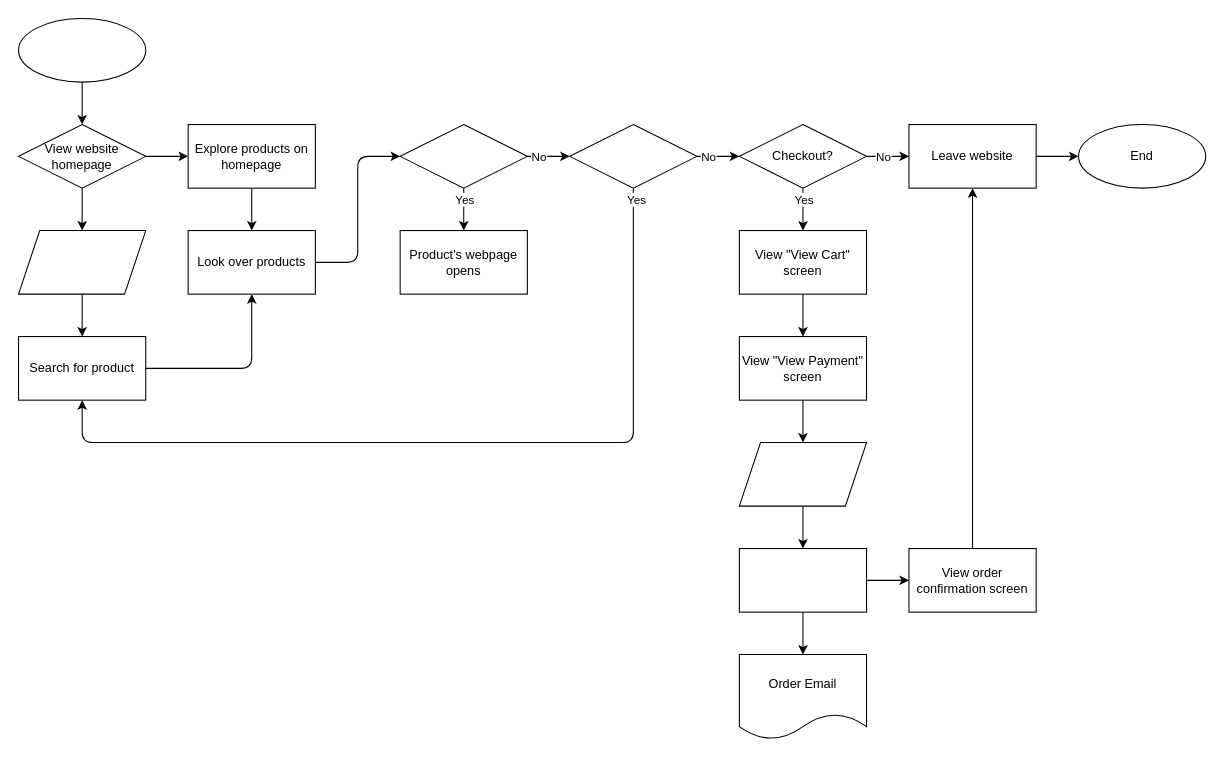
Image size: 1224x758. Some labels were removed from this diagram. Here are the shapes that lost their labels. From the top down, the centre of each, then its label:
the point at 81,49: Start
the point at 463,155: View a specific product?
the point at 633,155: Continue shopping?
the point at 81,261: Text search query
the point at 802,473: Payment information
the point at 802,579: Pay
